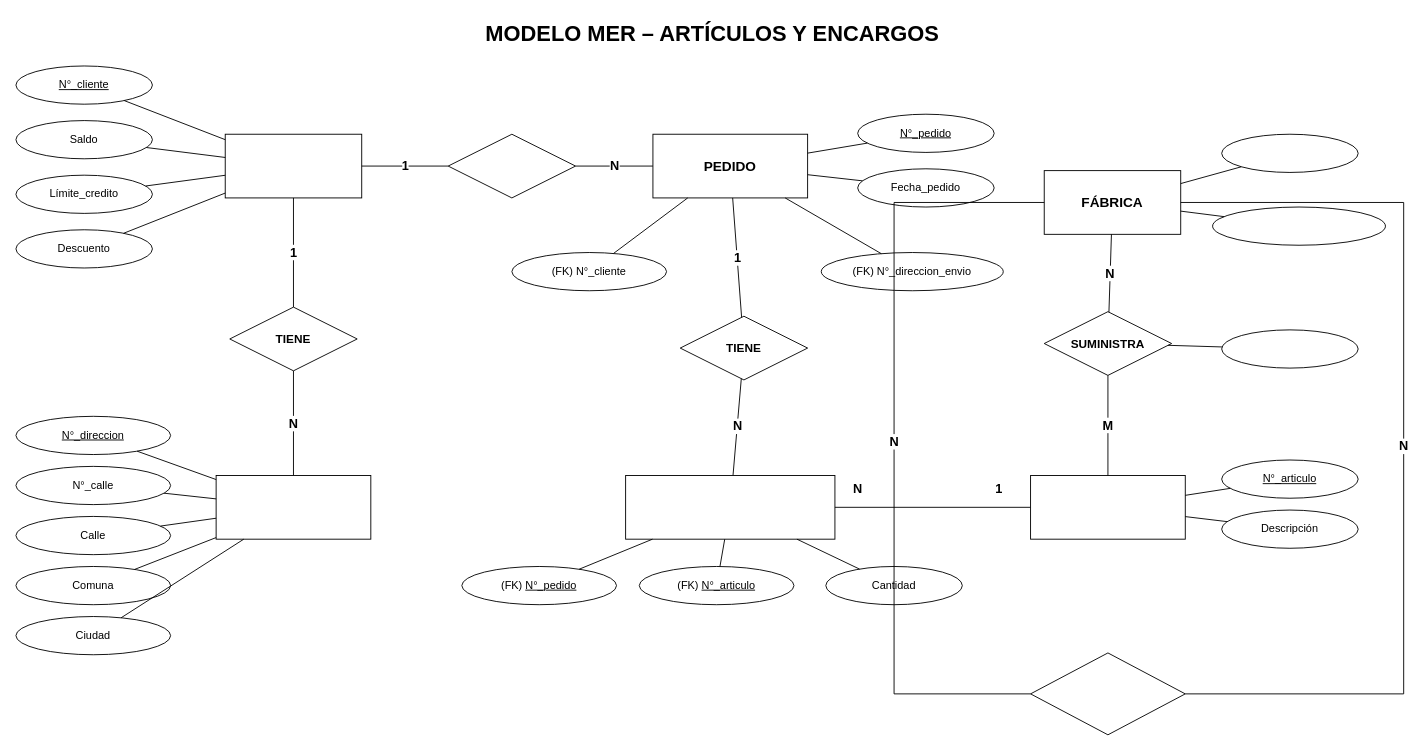
The diagram is 1424 pixels wide and 751 high, and some of its shapes have lost their labels. The shapes that lost their labels are listed below. From the top down, each one's box as (x1, y1, x2, y2) in pixels, then its label:
(224, 133, 362, 198): CLIENTE
(447, 133, 576, 198): REALIZA
(1221, 133, 1358, 172): N°_fabrica
(1212, 206, 1385, 245): Teléfono_contacto
(1221, 329, 1358, 368): Existencias
(215, 475, 371, 539): DIRECCIÓN
(625, 475, 835, 539): DETALLE_PEDIDO
(1030, 475, 1185, 539): ARTÍCULO
(1030, 652, 1185, 735): ALTERNATIVA
